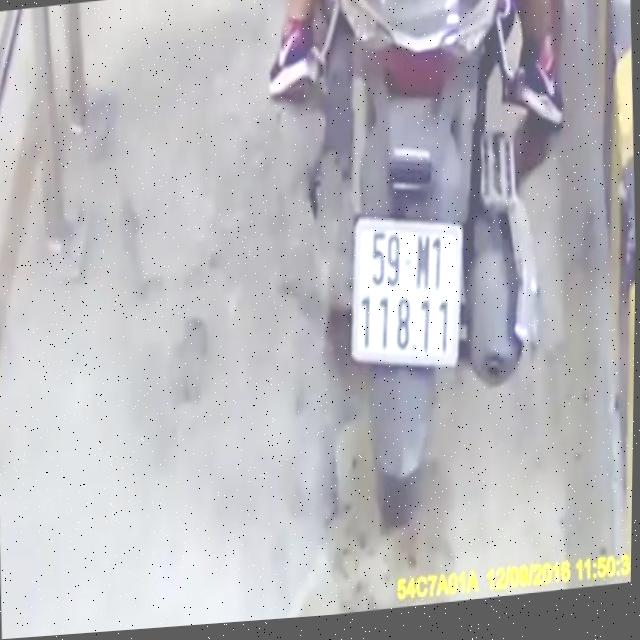motorcycle: (291, 0, 569, 563)
plate: (343, 198, 473, 387)
